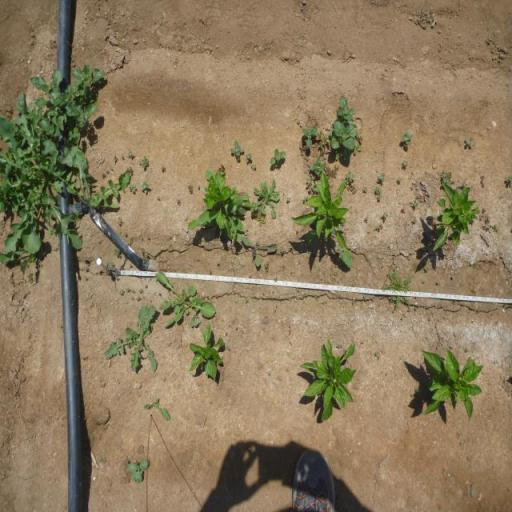plant: (297, 338, 359, 425), (419, 348, 485, 423), (291, 175, 350, 247), (430, 183, 482, 253), (201, 171, 250, 245), (186, 320, 226, 383)
weed: (0, 64, 103, 254), (100, 300, 158, 372), (154, 271, 218, 330), (70, 158, 130, 212), (328, 95, 354, 162), (381, 266, 414, 310), (241, 234, 278, 265), (256, 178, 280, 216), (142, 396, 172, 422), (126, 458, 150, 484), (316, 131, 330, 160), (300, 124, 316, 148), (268, 148, 287, 168), (230, 139, 244, 158), (353, 130, 363, 156), (401, 128, 414, 147), (325, 163, 340, 179), (310, 158, 323, 176), (131, 286, 143, 304), (344, 181, 358, 196), (441, 168, 454, 184), (189, 313, 202, 328), (256, 214, 267, 228), (139, 180, 149, 194), (141, 155, 150, 170), (304, 177, 312, 191), (453, 180, 467, 188), (346, 170, 355, 182), (464, 136, 473, 148), (119, 286, 129, 296), (126, 165, 135, 176), (187, 182, 194, 196), (375, 186, 382, 200), (409, 199, 419, 208), (28, 272, 34, 286), (264, 260, 270, 274), (251, 201, 257, 215), (245, 152, 252, 164), (379, 172, 386, 184), (479, 174, 485, 188), (113, 247, 121, 257), (218, 162, 226, 172), (375, 224, 383, 234), (374, 351, 382, 361), (504, 174, 512, 184), (141, 249, 149, 258), (492, 222, 498, 234), (414, 387, 422, 395), (127, 150, 135, 157), (382, 212, 388, 221), (363, 214, 369, 223), (160, 164, 166, 172), (176, 199, 182, 207), (402, 159, 408, 167), (336, 343, 343, 349), (286, 196, 291, 204), (280, 246, 284, 256), (397, 176, 402, 184), (250, 164, 256, 170), (281, 264, 287, 270), (362, 186, 368, 192), (424, 266, 430, 272), (472, 263, 477, 270), (226, 345, 231, 351), (244, 296, 248, 303)
